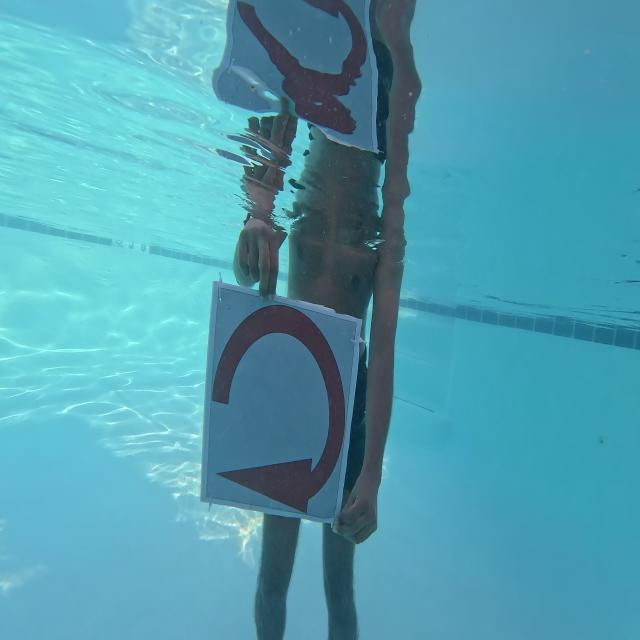red_side: (212, 279, 348, 528)
